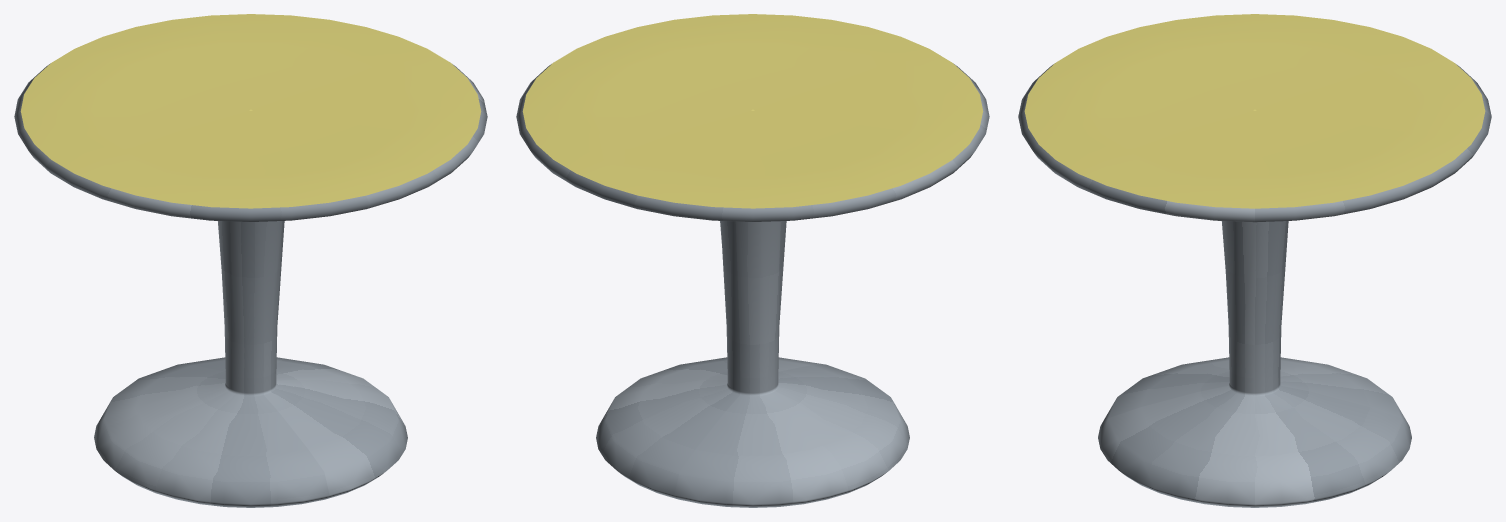
File: table.obj
3 views of the same model, side by side, from view 1: azimuth 30°, elevation 25°; view 2: azimuth 150°, elevation 25°; view 3: azimuth 270°, elevation 25° (orthographic).
Parts seen in each view (by area): view 1: table1; view 2: table1; view 3: table1.
Boxes of the visible parts, bbox=[...] form: table1: bbox=[14, 14, 487, 507]; table1: bbox=[516, 14, 989, 507]; table1: bbox=[1018, 14, 1491, 507].
Bounding box in the file's own units: 6.85 × 5.39 × 6.85.
Materials: 3 (3 with a texture image).
